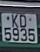5: (27, 27, 36, 44), (4, 26, 12, 43)
8: (20, 27, 28, 43)
9: (12, 27, 21, 42)
D: (19, 14, 28, 29)
K: (10, 13, 20, 28)
